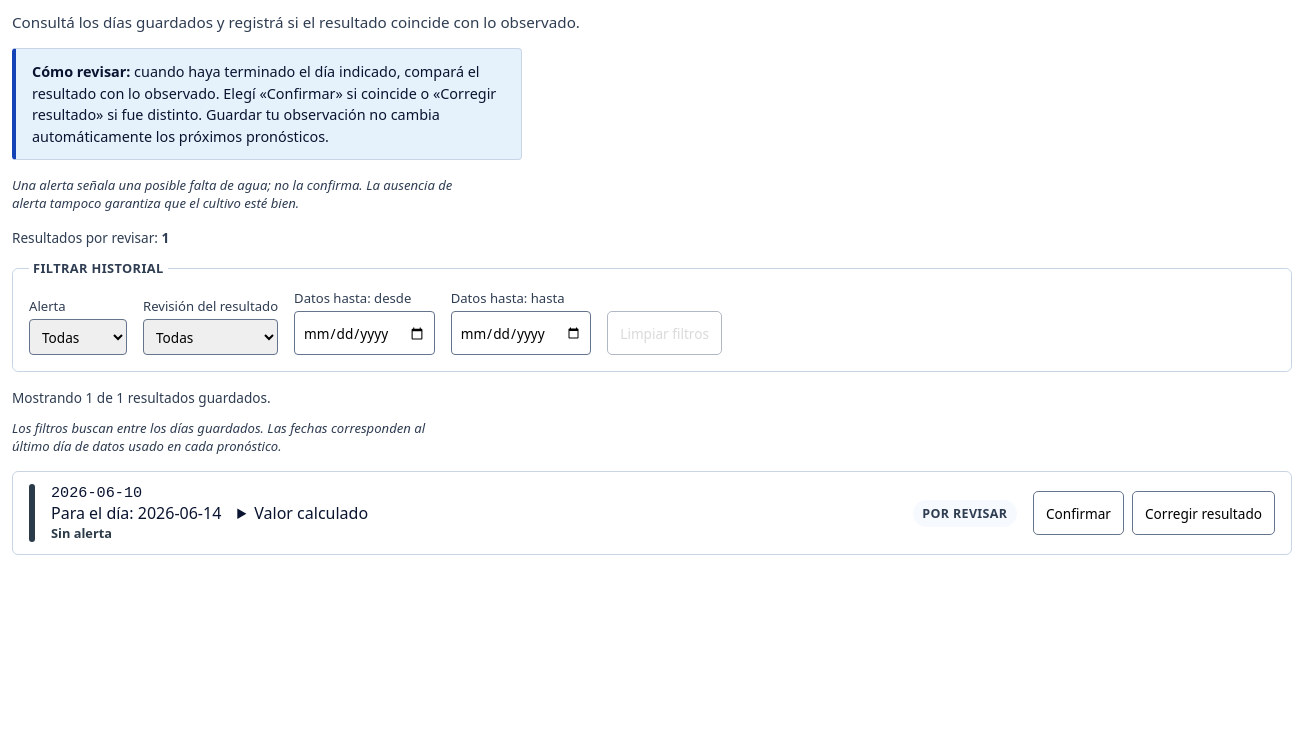
Test: ForecastPage: madurez del día objetivo (UTC) › still surfaces a backend 409 rejection for a mature target
Click the button "Confirmar". click: (1078, 513)
box: top-left (1033, 491), bottom-right (1124, 535)
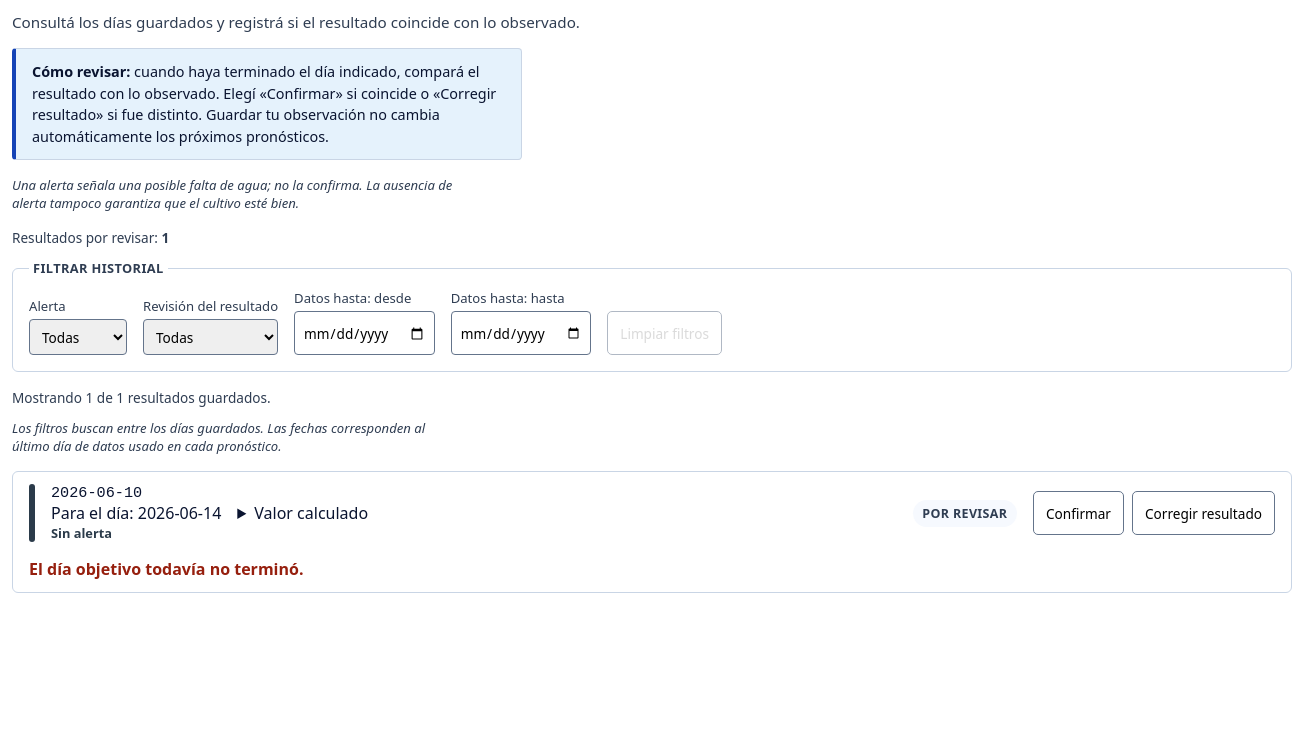
Check: the message "El día objetivo todavía no terminó." is shown, box top-left (29, 558), bottom-right (304, 580)
